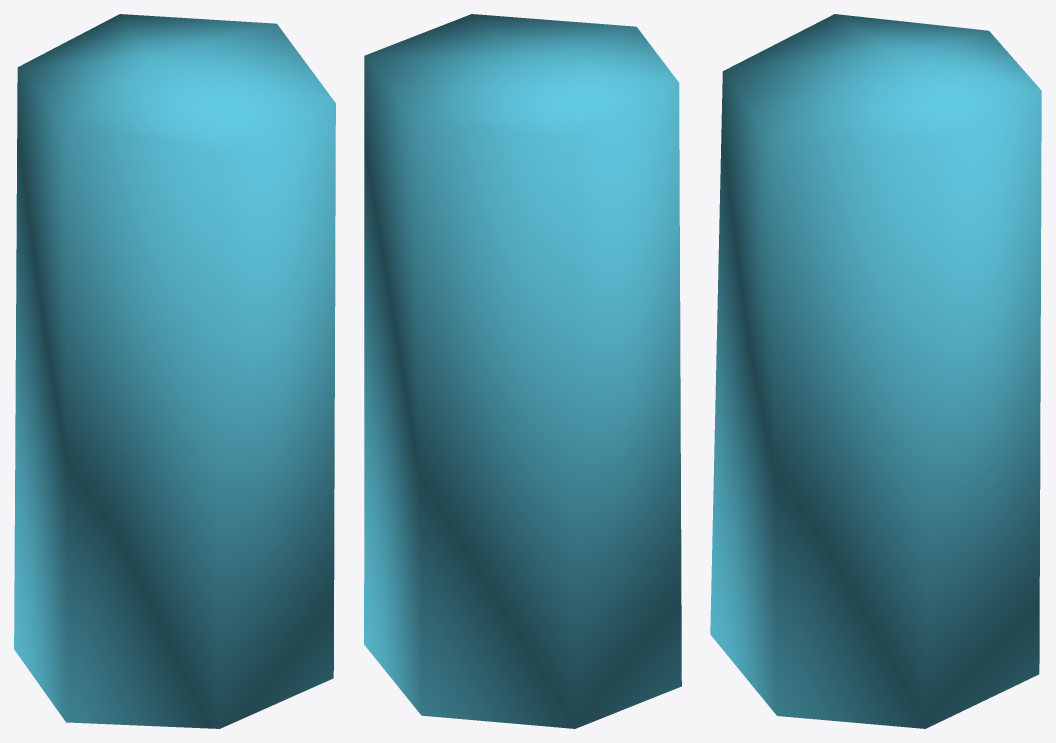
File: column_elem_02.FBX
The picture shows the model from 3 angles, left to right: view 1: azimuth 30°, elevation 25°; view 2: azimuth 150°, elevation 25°; view 3: azimuth 270°, elevation 25°; orthographic projection.
Parts seen in each view (by area): view 1: column_elem_02; view 2: column_elem_02; view 3: column_elem_02.
Boxes of the visible parts, x1,y1,x2,y2 form: column_elem_02: (14,14,335,728); column_elem_02: (364,14,681,728); column_elem_02: (710,14,1041,728).
Size of the model in its own units: 25.78 by 57.15 by 27.59.
